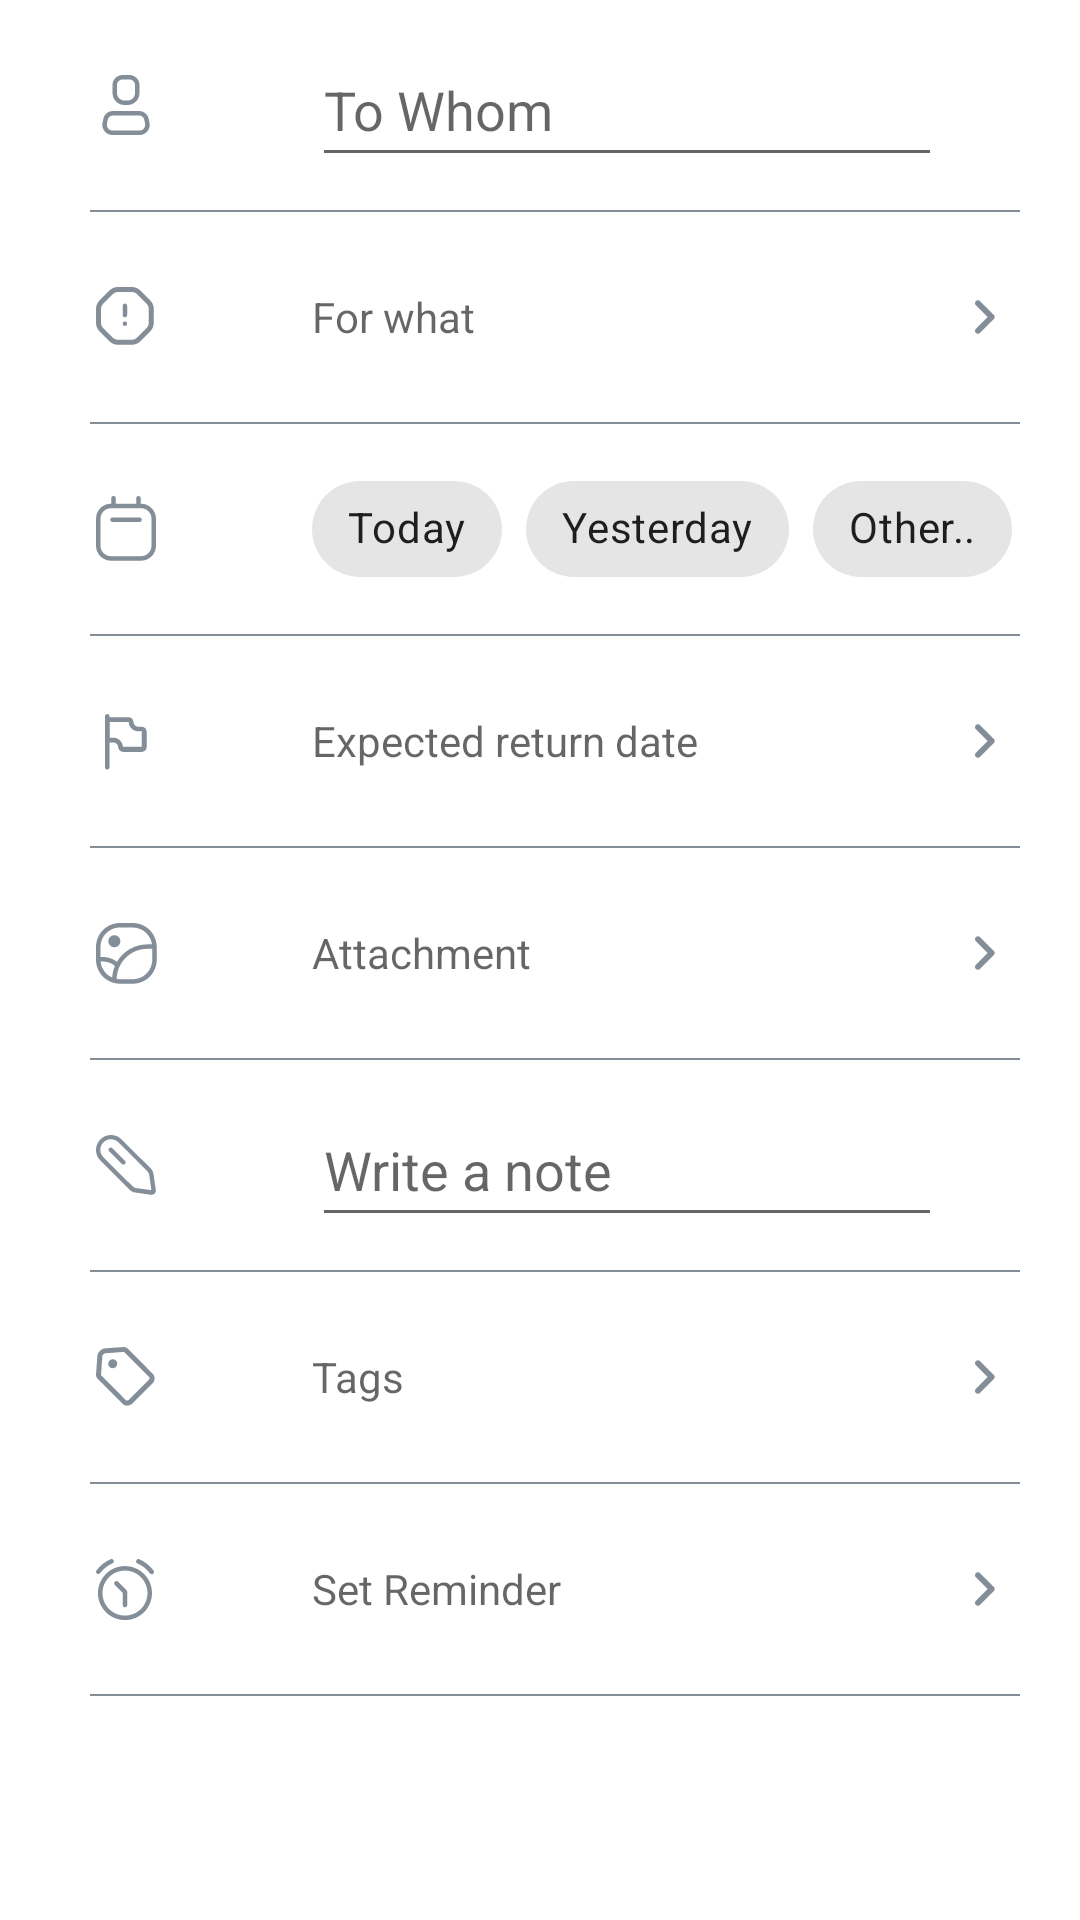

Icon bounding boxes for this 1080px x 1920px phone screenshot, format box(x1, y1, x2, y2):
alarm: box(96, 1559, 154, 1620)
arrow right: box(975, 300, 995, 334), box(975, 724, 995, 758), box(975, 936, 995, 970), box(975, 1360, 995, 1394), box(975, 1572, 995, 1606)
calender: box(96, 496, 156, 561)
exclamation: box(96, 287, 154, 345)
galary: box(96, 923, 157, 984)
id flag: box(105, 714, 147, 770)
person: box(102, 75, 150, 135)
tag: box(96, 1347, 155, 1406)
